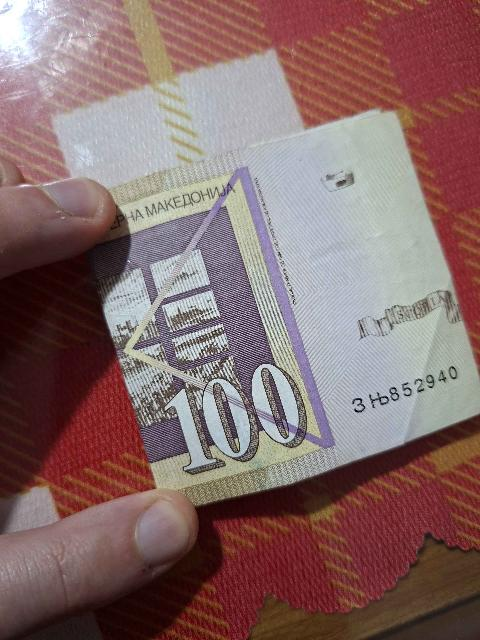100_note: (90, 113, 479, 504)
